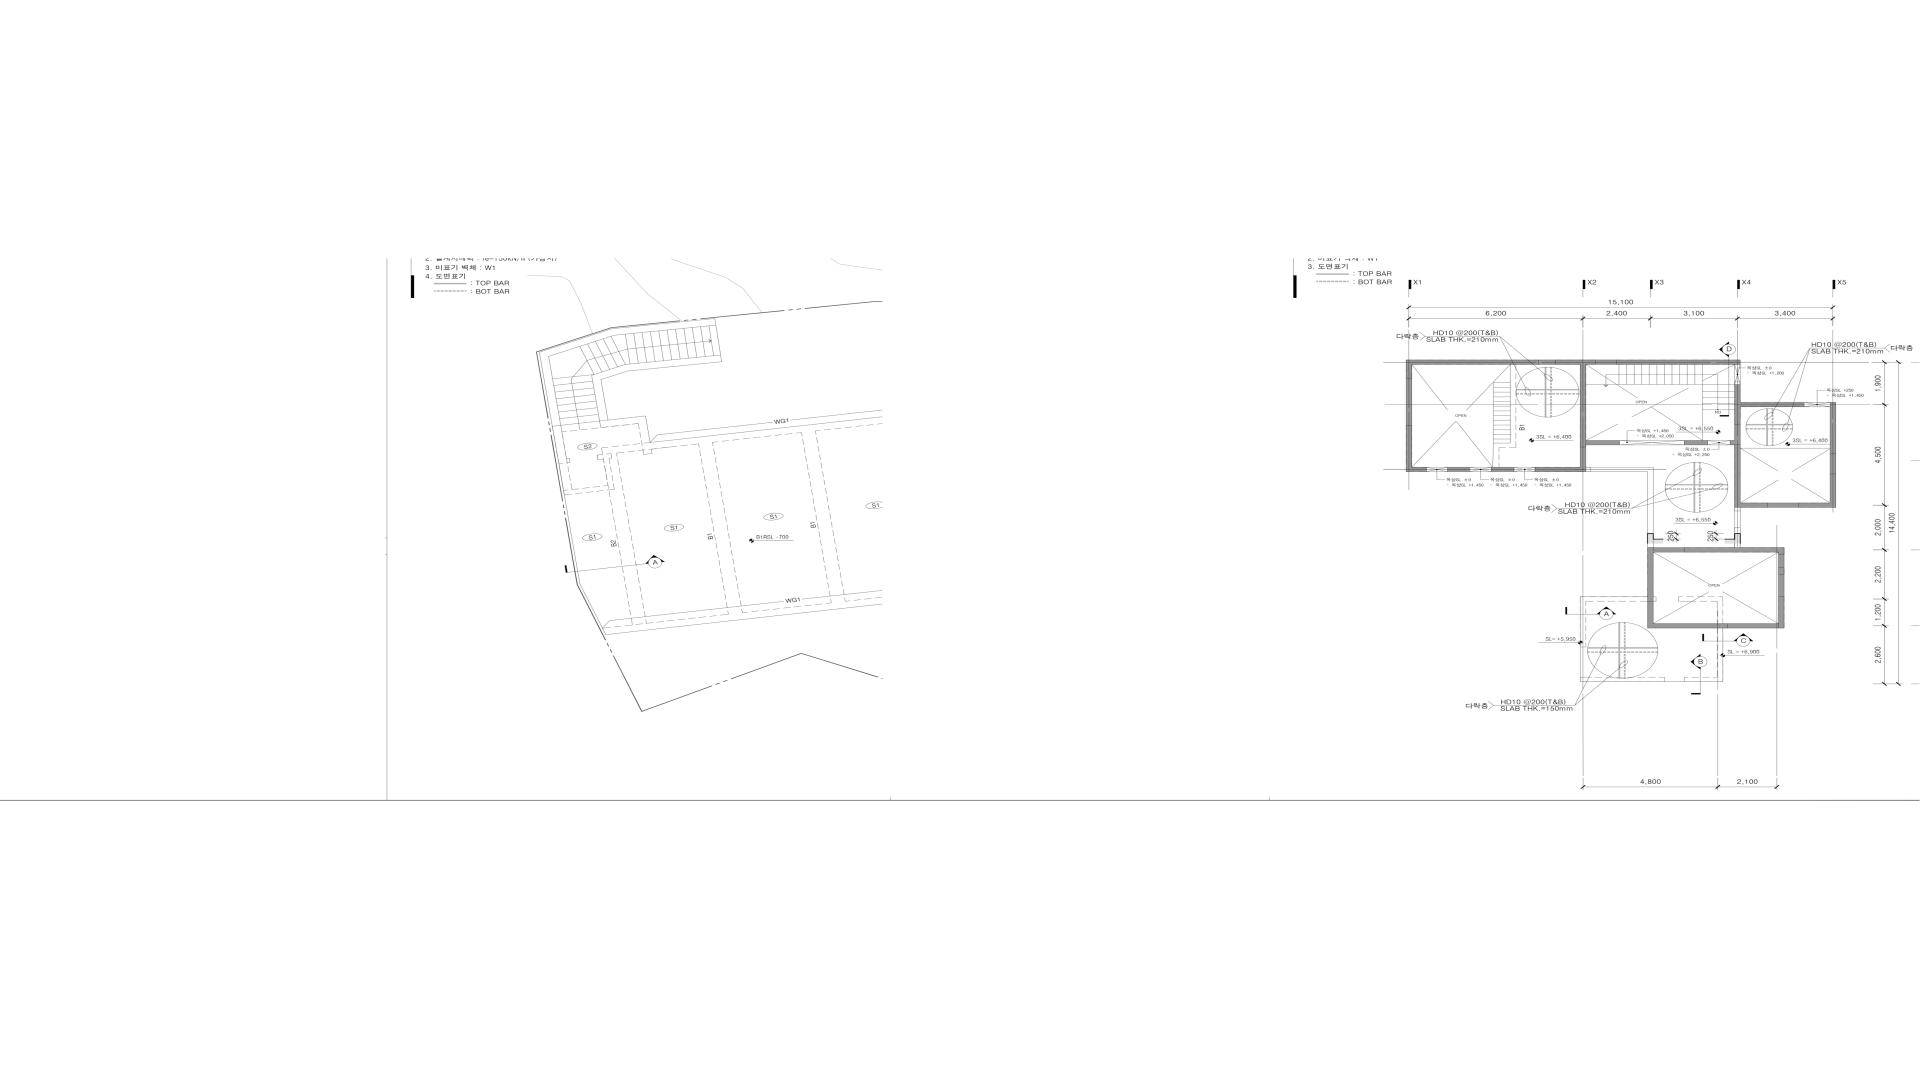door: (1734, 364, 1741, 385)
wall: (603, 585, 943, 634), (650, 407, 910, 443), (910, 414, 949, 597), (539, 328, 615, 359), (612, 318, 716, 335), (625, 355, 723, 372), (541, 356, 560, 426), (1406, 360, 1539, 365), (592, 364, 628, 382), (1617, 360, 1741, 365), (593, 380, 608, 421), (553, 426, 567, 464), (1647, 547, 1654, 628), (1684, 547, 1784, 553), (1580, 365, 1586, 440), (559, 463, 574, 495), (1734, 444, 1741, 508), (600, 417, 638, 427), (603, 459, 615, 491), (637, 415, 650, 443), (572, 485, 609, 495), (1741, 402, 1804, 407), (1406, 378, 1412, 426), (1406, 426, 1412, 472), (1654, 624, 1727, 628), (1830, 402, 1836, 454), (1535, 467, 1580, 472), (1556, 360, 1596, 365), (1727, 624, 1779, 628), (1799, 502, 1836, 508), (1586, 440, 1619, 446), (1580, 447, 1586, 472), (1654, 547, 1684, 553), (1779, 597, 1784, 628), (1768, 502, 1799, 508), (1830, 473, 1836, 502), (1734, 385, 1741, 407), (1741, 502, 1768, 508), (1684, 440, 1708, 446), (1779, 575, 1784, 597), (1448, 467, 1470, 472), (1491, 467, 1514, 472), (1734, 407, 1741, 425), (1596, 360, 1617, 365), (1830, 454, 1836, 473), (1734, 425, 1741, 440), (597, 454, 612, 460), (1539, 360, 1556, 365), (1406, 365, 1412, 378), (1779, 554, 1784, 568), (1412, 467, 1427, 472), (1580, 440, 1586, 447), (1730, 440, 1741, 444), (1779, 568, 1784, 575), (567, 458, 570, 463), (1779, 553, 1784, 554)
window: (1619, 440, 1684, 446), (1804, 402, 1830, 407), (1708, 440, 1730, 446), (1427, 467, 1448, 472), (1470, 467, 1491, 472), (1514, 467, 1535, 472)
